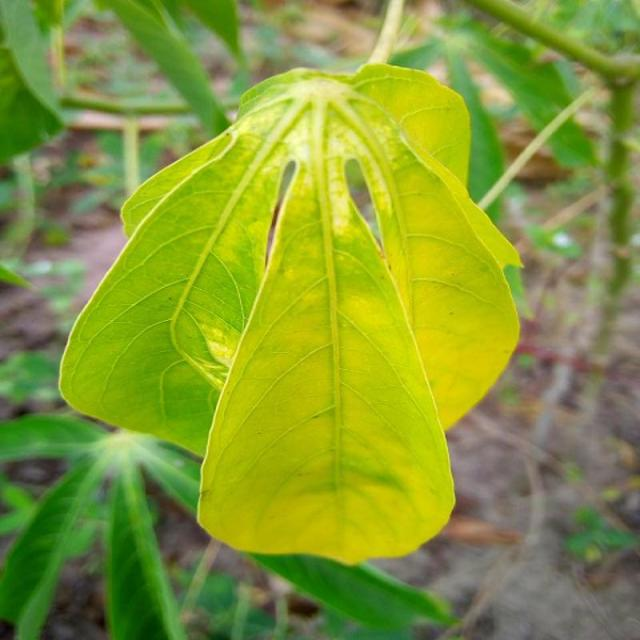cassava leaf: (58, 63, 524, 566)
